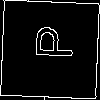P: (25, 24, 74, 60)
